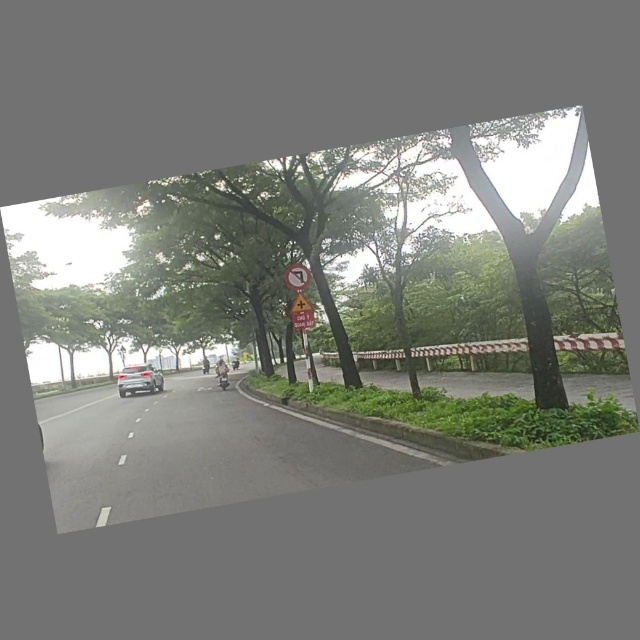P.123a: (282, 261, 316, 294)
W.205a: (283, 289, 317, 316)
